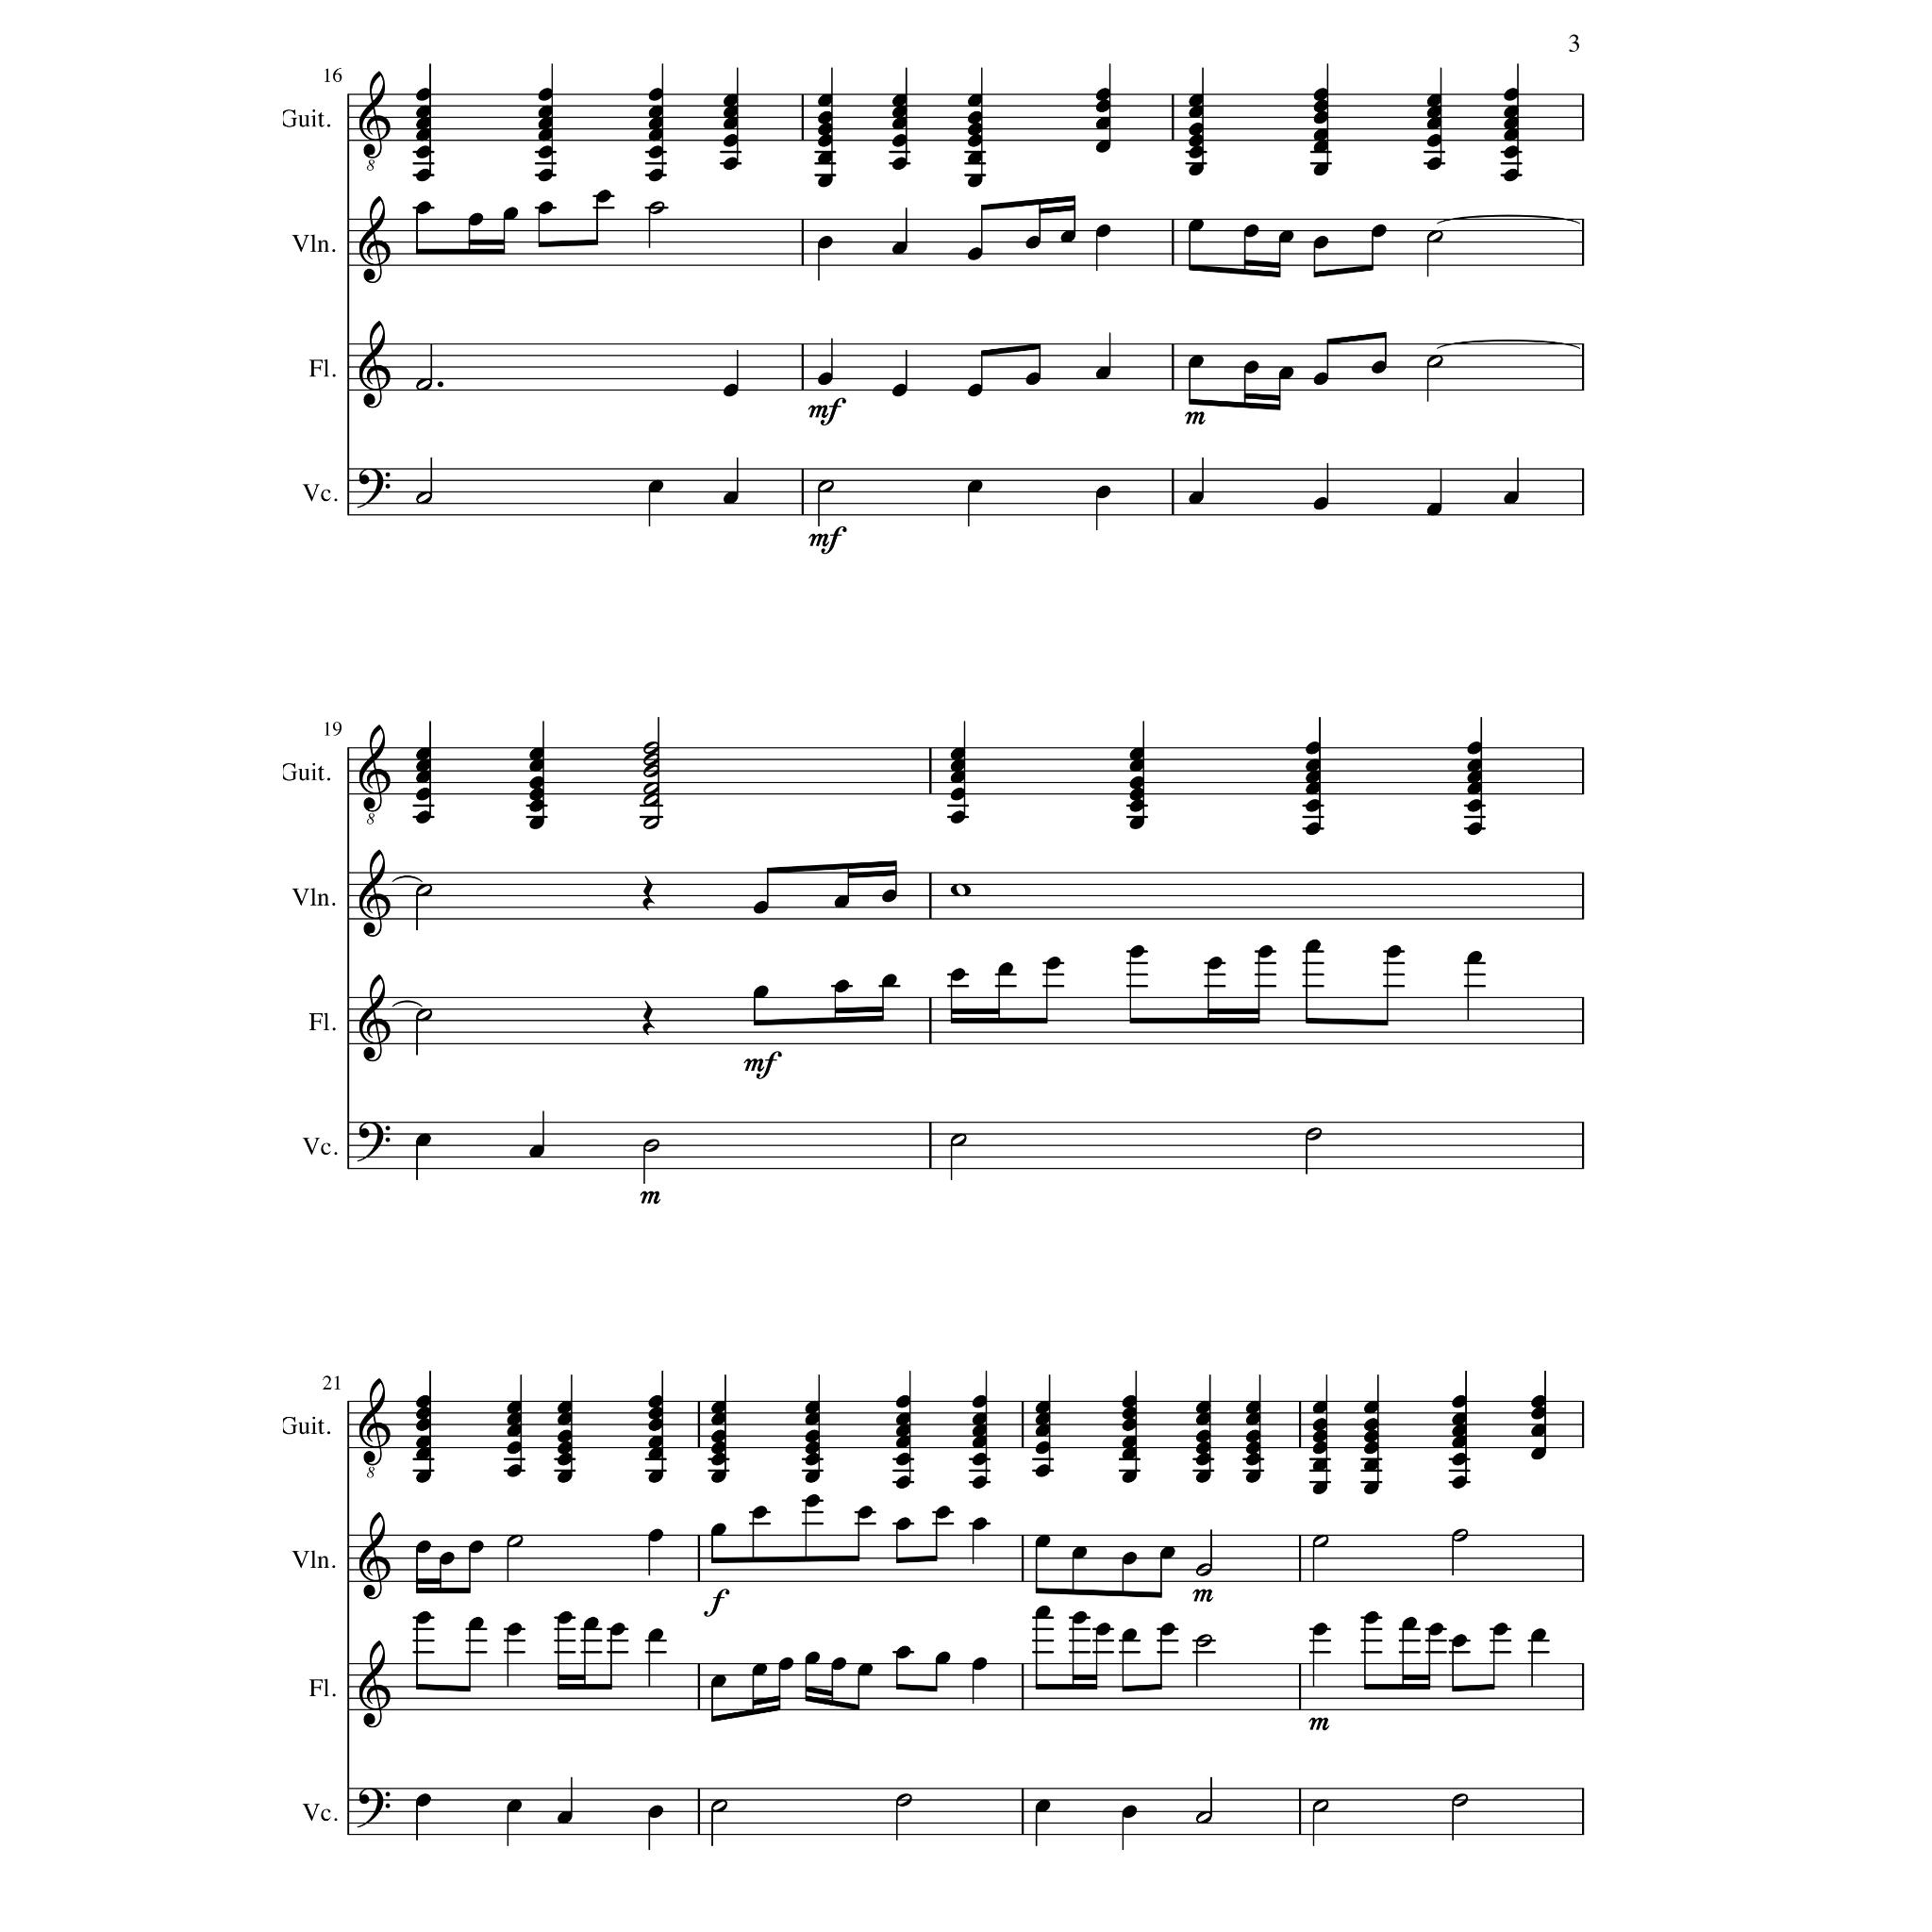fClef: (357, 469, 391, 510), (357, 1122, 391, 1162), (357, 1787, 391, 1828)
gClef: (359, 1376, 391, 1467), (359, 320, 391, 409), (359, 195, 391, 283), (359, 71, 391, 159), (359, 725, 391, 814), (359, 973, 391, 1062), (359, 849, 391, 938), (359, 1640, 391, 1729), (359, 1511, 391, 1599)
noteheadBlack: (1242, 361, 1260, 375), (1256, 945, 1274, 959), (830, 1658, 847, 1672), (1277, 230, 1293, 244), (1277, 366, 1293, 380), (1095, 117, 1111, 131), (1095, 140, 1111, 154), (1060, 230, 1076, 244), (1095, 88, 1111, 103), (1024, 235, 1040, 249), (1189, 218, 1205, 232), (1189, 94, 1205, 108), (1189, 122, 1205, 136), (1189, 163, 1205, 177), (1095, 366, 1111, 380), (1504, 88, 1520, 103), (1504, 117, 1520, 131), (1504, 168, 1520, 182), (1313, 88, 1329, 103), (1313, 235, 1329, 249), (1313, 111, 1329, 126), (1313, 140, 1329, 154), (1313, 163, 1329, 177), (1426, 502, 1442, 517), (1426, 94, 1442, 108), (1426, 117, 1442, 131), (1426, 157, 1442, 172), (1371, 361, 1387, 375), (502, 207, 518, 221), (538, 88, 554, 103), (538, 117, 554, 131), (538, 168, 554, 182), (648, 479, 663, 494), (648, 88, 663, 103), (648, 117, 663, 131), (648, 168, 663, 182), (596, 189, 612, 203), (416, 88, 432, 103), (416, 117, 432, 131), (416, 168, 432, 182), (892, 241, 908, 255), (892, 94, 908, 108), (892, 117, 908, 131), (892, 157, 908, 172), (968, 111, 984, 126), (968, 479, 984, 494), (968, 246, 984, 260), (968, 94, 984, 108), (968, 122, 984, 136), (968, 150, 984, 165), (817, 94, 833, 108), (817, 111, 833, 126), (817, 122, 833, 136), (817, 150, 833, 165), (722, 94, 738, 108), (722, 117, 738, 131), (722, 157, 738, 172), (817, 235, 833, 249), (950, 968, 966, 982), (1046, 955, 1062, 970), (1207, 955, 1223, 970), (1129, 945, 1145, 959), (1129, 747, 1145, 761), (1129, 759, 1145, 773), (1129, 787, 1145, 801), (1467, 950, 1483, 964), (1467, 741, 1483, 755), (1467, 759, 1483, 773), (1467, 770, 1483, 784), (1306, 939, 1322, 954), (1306, 741, 1322, 755), (1306, 759, 1322, 773), (1306, 770, 1322, 784), (1385, 945, 1401, 959), (416, 1132, 432, 1146), (416, 747, 432, 761), (416, 759, 432, 773), (416, 770, 432, 784), (416, 787, 432, 801), (416, 810, 432, 824), (529, 747, 545, 761), (529, 1145, 545, 1159), (529, 759, 545, 773), (529, 787, 545, 801), (833, 978, 849, 993), (950, 747, 966, 761), (950, 759, 966, 773), (950, 770, 966, 784), (950, 787, 966, 801), (950, 810, 966, 824), (881, 890, 897, 904), (752, 901, 768, 915), (752, 985, 768, 1000), (1159, 1622, 1175, 1637), (1122, 1628, 1138, 1642), (1246, 1440, 1261, 1454), (1122, 1468, 1138, 1483), (1122, 1417, 1138, 1431), (1122, 1552, 1138, 1566), (1122, 1805, 1138, 1819), (1246, 1468, 1261, 1483), (1246, 1453, 1261, 1467), (1194, 1453, 1210, 1467), (1194, 1468, 1210, 1483), (1194, 1440, 1210, 1454), (1194, 1430, 1210, 1444), (1194, 1412, 1210, 1426), (1194, 1401, 1210, 1415), (1035, 1440, 1051, 1454), (1035, 1412, 1051, 1426), (1035, 1401, 1051, 1415), (1035, 1534, 1051, 1548), (971, 1453, 987, 1467), (971, 1412, 987, 1426), (971, 1516, 987, 1530), (971, 1658, 987, 1672), (1095, 1622, 1111, 1637), (1493, 1622, 1509, 1637), (1530, 1628, 1546, 1642), (1451, 1453, 1467, 1467), (1451, 1412, 1467, 1426), (1311, 1430, 1327, 1444), (1246, 1412, 1261, 1426), (1246, 1401, 1261, 1415), (1311, 1481, 1327, 1495), (1311, 1458, 1327, 1472), (1311, 1440, 1327, 1454), (1311, 1417, 1327, 1431), (1311, 1401, 1327, 1415), (1311, 1622, 1327, 1637), (1401, 1617, 1417, 1631), (1428, 1622, 1444, 1637), (1246, 1430, 1261, 1444), (1364, 1481, 1380, 1495), (1364, 1458, 1380, 1472), (1364, 1440, 1380, 1454), (1364, 1430, 1380, 1444), (1364, 1417, 1380, 1431), (1364, 1401, 1380, 1415), (557, 1468, 573, 1483), (557, 1453, 573, 1467), (557, 1440, 573, 1454), (557, 1430, 573, 1444), (557, 1412, 573, 1426), (557, 1401, 573, 1415), (506, 1440, 522, 1454), (506, 1412, 522, 1426), (506, 1401, 522, 1415), (506, 1622, 522, 1637), (648, 1529, 663, 1543), (648, 1628, 663, 1642), (648, 1805, 663, 1819), (609, 1622, 625, 1637), (582, 1617, 598, 1631), (648, 1468, 663, 1483), (648, 1417, 663, 1431), (416, 1468, 432, 1483), (416, 1417, 432, 1431), (439, 1552, 455, 1566), (467, 1617, 483, 1631), (416, 1792, 432, 1806), (805, 1493, 821, 1507), (778, 1658, 794, 1672), (805, 1468, 821, 1483), (805, 1453, 821, 1467), (805, 1440, 821, 1454), (805, 1430, 821, 1444), (805, 1412, 821, 1426), (805, 1401, 821, 1415), (895, 1453, 911, 1467), (895, 1412, 911, 1426), (895, 1516, 911, 1530), (895, 1645, 911, 1660), (856, 1663, 872, 1677), (709, 1523, 725, 1537), (709, 1468, 725, 1483), (709, 1453, 725, 1467), (709, 1440, 725, 1454), (709, 1430, 725, 1444), (709, 1412, 725, 1426), (709, 1401, 725, 1415), (709, 1674, 725, 1688), (752, 1663, 768, 1677), (1242, 225, 1260, 237), (1070, 1546, 1088, 1559), (1070, 1612, 1088, 1624), (1095, 101, 1111, 113), (1024, 373, 1040, 386), (1189, 356, 1205, 368), (1189, 106, 1205, 119), (1189, 134, 1205, 147), (1189, 147, 1205, 159), (1189, 492, 1205, 504), (1095, 487, 1111, 499), (1095, 225, 1111, 237), (1504, 147, 1520, 159), (1504, 492, 1520, 504), (1504, 106, 1520, 119), (1504, 129, 1520, 142), (1313, 497, 1329, 510), (1313, 373, 1329, 386), (1313, 101, 1329, 113), (1313, 129, 1329, 142), (1426, 106, 1442, 119), (1426, 134, 1442, 147), (1371, 225, 1387, 237), (538, 202, 554, 214), (538, 106, 554, 119), (538, 129, 554, 142), (538, 147, 554, 159), (467, 214, 483, 226), (648, 129, 663, 142), (648, 106, 663, 119), (648, 147, 663, 159), (416, 106, 432, 119), (416, 202, 432, 214), (416, 129, 432, 142), (416, 147, 432, 159), (892, 384, 908, 396), (892, 106, 908, 119), (892, 134, 908, 147), (968, 384, 984, 396), (968, 134, 984, 147), (968, 175, 984, 188), (817, 134, 833, 147), (817, 175, 833, 188), (722, 492, 738, 504), (722, 384, 738, 396), (722, 106, 738, 119), (722, 134, 738, 147), (817, 373, 833, 386), (1129, 800, 1145, 812), (998, 962, 1014, 975), (1129, 817, 1145, 830), (1129, 777, 1145, 789), (1306, 800, 1322, 812), (1306, 782, 1322, 794), (1306, 823, 1322, 835), (1467, 782, 1483, 794), (1467, 800, 1483, 812), (1467, 823, 1483, 835), (529, 777, 545, 789), (529, 800, 545, 812), (529, 817, 545, 830), (833, 895, 849, 908), (881, 975, 897, 987), (1159, 1546, 1175, 1559), (1122, 1447, 1138, 1460), (1122, 1437, 1138, 1449), (1122, 1407, 1138, 1419), (1122, 1396, 1138, 1408), (971, 1476, 987, 1488), (1035, 1465, 1051, 1477), (1035, 1424, 1051, 1437), (1035, 1606, 1051, 1619), (1035, 1799, 1051, 1812), (971, 1437, 987, 1449), (971, 1424, 987, 1437), (971, 1396, 987, 1408), (1530, 1447, 1546, 1460), (1530, 1424, 1546, 1437), (1530, 1407, 1546, 1419), (1530, 1396, 1546, 1408), (1451, 1476, 1467, 1488), (1451, 1437, 1467, 1449), (1451, 1424, 1467, 1437), (1451, 1396, 1467, 1408), (1451, 1635, 1467, 1647), (1364, 1612, 1380, 1624), (557, 1812, 573, 1824), (557, 1612, 573, 1624), (506, 1424, 522, 1437), (506, 1799, 522, 1812), (648, 1396, 663, 1408), (648, 1407, 663, 1419), (506, 1465, 522, 1477), (648, 1447, 663, 1460), (648, 1437, 663, 1449), (416, 1447, 432, 1460), (416, 1437, 432, 1449), (416, 1407, 432, 1419), (416, 1396, 432, 1408), (467, 1541, 483, 1553), (416, 1541, 432, 1553), (416, 1612, 432, 1624), (805, 1652, 821, 1665), (895, 1396, 911, 1408), (895, 1476, 911, 1488), (895, 1437, 911, 1449), (895, 1424, 911, 1437), (856, 1506, 872, 1518), (752, 1506, 768, 1518), (934, 1652, 950, 1665), (934, 1506, 950, 1518)
noteheadHalf: (1426, 230, 1444, 244), (1304, 1127, 1322, 1141), (642, 741, 660, 755), (642, 752, 660, 766), (642, 764, 660, 778), (642, 793, 660, 807), (1451, 1529, 1468, 1543), (506, 1534, 524, 1548), (817, 479, 833, 494), (1313, 1534, 1329, 1548), (1426, 356, 1444, 368), (950, 1134, 968, 1146), (642, 1139, 660, 1152), (642, 782, 660, 794), (642, 817, 660, 830), (1451, 1794, 1468, 1806), (895, 1794, 913, 1806), (648, 202, 663, 214), (416, 492, 432, 504), (416, 379, 432, 391), (416, 1008, 432, 1021), (416, 885, 432, 897), (1196, 1564, 1212, 1576), (1196, 1635, 1212, 1647), (1196, 1812, 1212, 1824), (1313, 1799, 1329, 1812), (711, 1799, 727, 1812)
noteheadWhole: (950, 885, 971, 897)
restQuarter: (642, 1000, 655, 1035), (642, 876, 655, 911)
